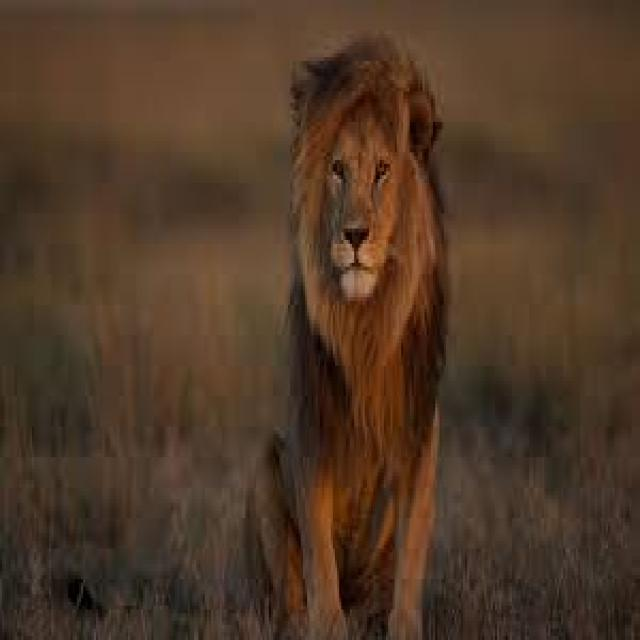Lion: (247, 55, 450, 636)
